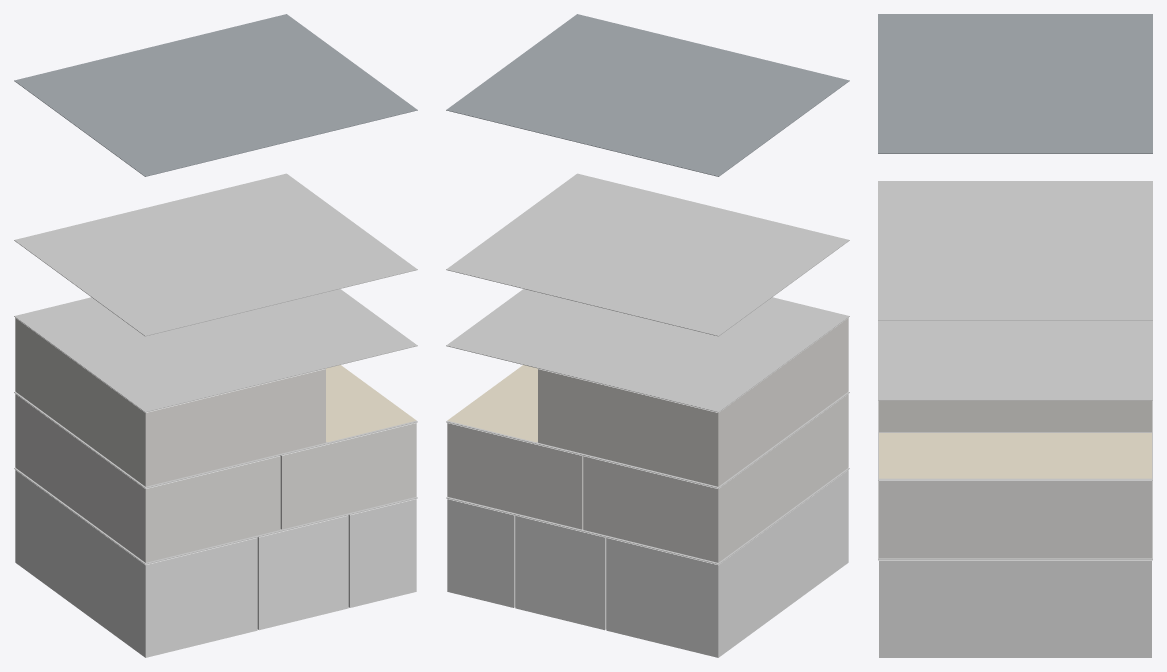
Rendered from interior.glb.
The picture shows the model from 3 angles, left to right: view 1: azimuth 30°, elevation 25°; view 2: azimuth 150°, elevation 25°; view 3: azimuth 270°, elevation 25°; orthographic projection. The views are drawn at different scales.
Parts seen in each view (by area): view 1: Zone_Slab_5F, Zone_Roof_RF, Zone_Slab_4F, Zone_MasterSuite_3F, Zone_Lobby_1F, Zone_BedroomA_2F, Zone_BedroomB_2F, Zone_LivingRoom_1F, Zone_Bathroom_1F, Zone_Terrace_3F, Zone_Slab_2F, Zone_Slab_3F; view 2: Zone_Slab_5F, Zone_Roof_RF, Zone_Slab_4F, Zone_MasterSuite_3F, Zone_Lobby_1F, Zone_BedroomA_2F, Zone_BedroomB_2F, Zone_LivingRoom_1F, Zone_Bathroom_1F, Zone_Terrace_3F, Zone_Slab_2F, Zone_Slab_3F; view 3: Zone_Slab_5F, Zone_Roof_RF, Zone_Bathroom_1F, Zone_Slab_4F, Zone_BedroomB_2F, Zone_Terrace_3F, Zone_MasterSuite_3F, Zone_Slab_3F, Zone_Slab_2F.
Boxes of the visible parts, x1,y1,x2,y2 form: Zone_Slab_5F: (14, 173, 417, 336); Zone_Roof_RF: (14, 14, 417, 176); Zone_Slab_4F: (14, 289, 417, 412); Zone_MasterSuite_3F: (15, 318, 325, 486); Zone_Lobby_1F: (15, 470, 257, 657); Zone_BedroomA_2F: (15, 394, 280, 562); Zone_BedroomB_2F: (280, 422, 416, 529); Zone_LivingRoom_1F: (257, 515, 348, 630); Zone_Bathroom_1F: (348, 499, 416, 607); Zone_Terrace_3F: (326, 365, 416, 442); Zone_Slab_2F: (14, 468, 417, 564); Zone_Slab_3F: (14, 392, 417, 488); Zone_Slab_5F: (446, 173, 849, 336); Zone_Roof_RF: (446, 14, 849, 176); Zone_Slab_4F: (446, 289, 849, 412); Zone_MasterSuite_3F: (538, 318, 848, 486); Zone_Lobby_1F: (606, 470, 848, 657); Zone_BedroomA_2F: (583, 394, 848, 562); Zone_BedroomB_2F: (447, 422, 583, 529); Zone_LivingRoom_1F: (515, 515, 606, 630); Zone_Bathroom_1F: (447, 499, 515, 607); Zone_Terrace_3F: (447, 365, 537, 442); Zone_Slab_2F: (446, 468, 849, 564); Zone_Slab_3F: (446, 392, 849, 488); Zone_Slab_5F: (878, 181, 1152, 320); Zone_Roof_RF: (878, 14, 1152, 153); Zone_Bathroom_1F: (879, 560, 1151, 657); Zone_Slab_4F: (878, 321, 1152, 400); Zone_BedroomB_2F: (879, 480, 1151, 558); Zone_Terrace_3F: (879, 433, 1151, 478); Zone_MasterSuite_3F: (879, 400, 1151, 432); Zone_Slab_3F: (878, 400, 1152, 480); Zone_Slab_2F: (878, 480, 1152, 560).
Bounding box in the file's own units: 12 × 20.27 × 10.
